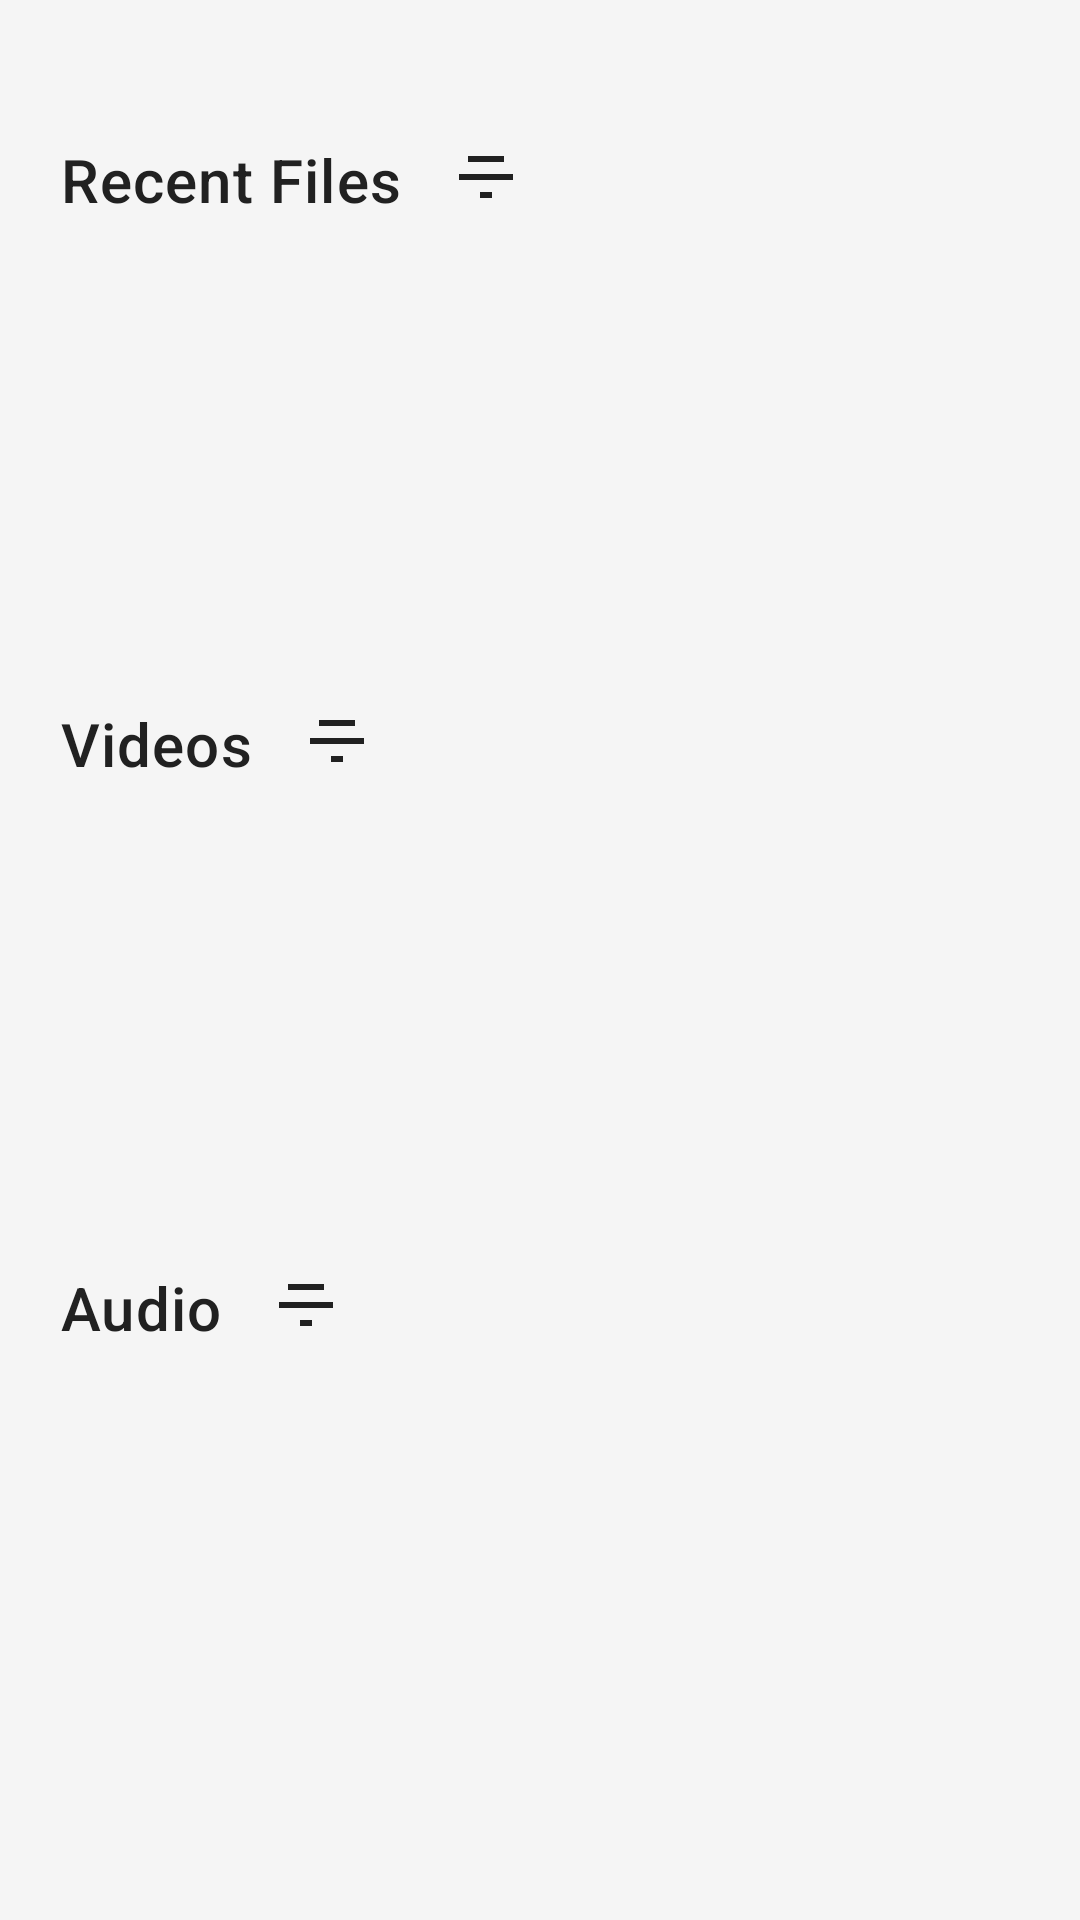

Screen size 1080 × 1920. Icon name, then its center in pixels as [x,y]:
Sort: [486,177], [337,741], [306,1305]
